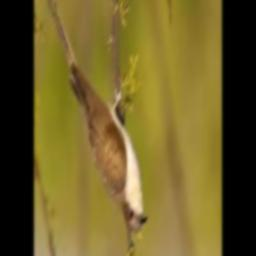Cuckoo: (46, 0, 147, 233)
